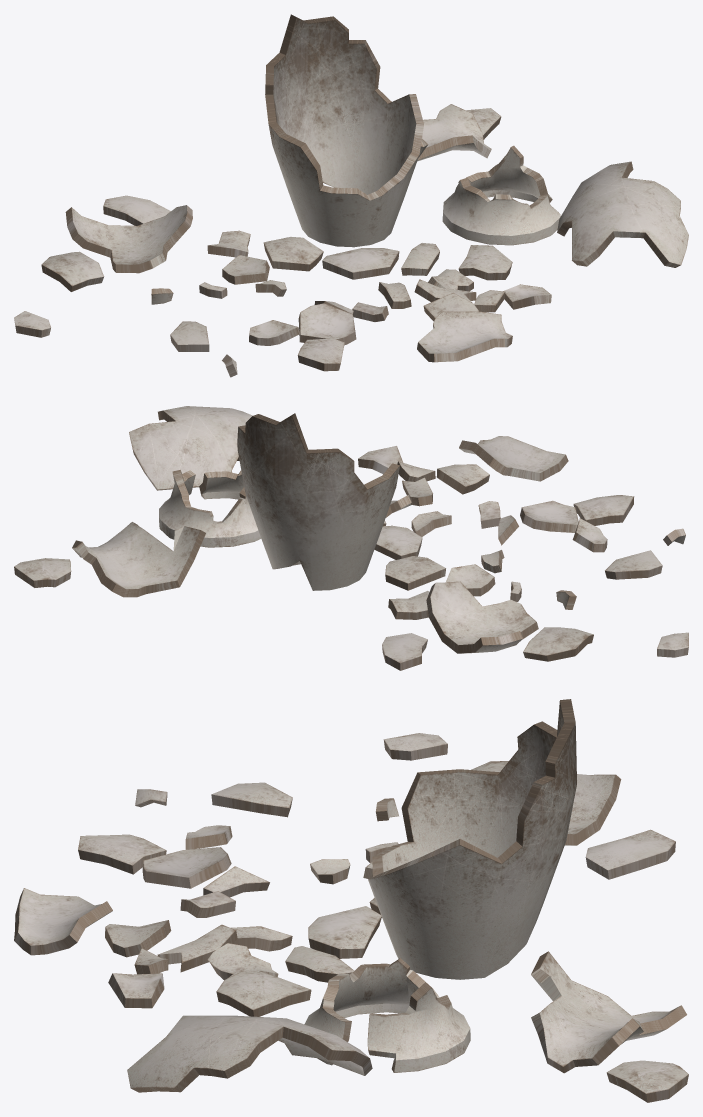
File: cicatriz.glb
3 renders of one model, top to bottom at view 1: azimuth 30°, elevation 25°; view 2: azimuth 150°, elevation 25°; view 3: azimuth 270°, elevation 25°, orthographic. The views are drawn at different scales.
Visible parts, largest first — view 1: Cylinder_cell.057_Material_0; view 2: Cylinder_cell.057_Material_0; view 3: Cylinder_cell.057_Material_0.
Part boxes in pixels (left/top/right/bottom): Cylinder_cell.057_Material_0: left=14, top=14, right=688, bottom=377; Cylinder_cell.057_Material_0: left=14, top=406, right=688, bottom=670; Cylinder_cell.057_Material_0: left=14, top=699, right=688, bottom=1102.
Bounding box in the file's own units: 1.92 × 0.6093 × 1.43.
1 material, 1 textured.
